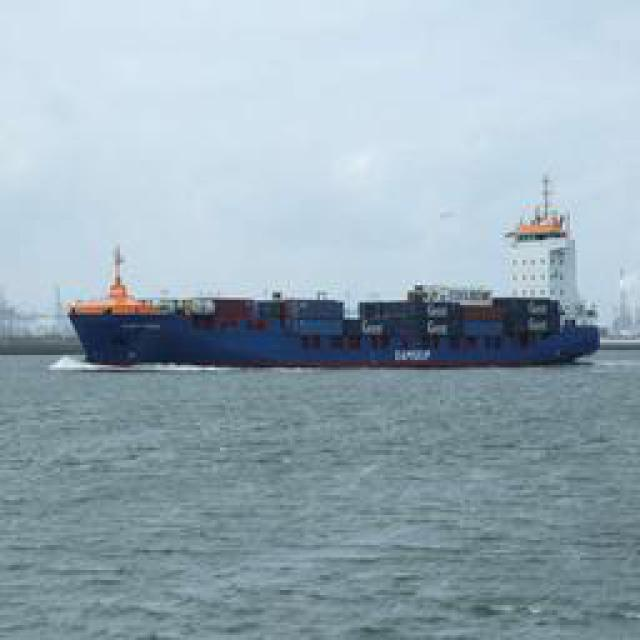Ship: (61, 245, 601, 370)
